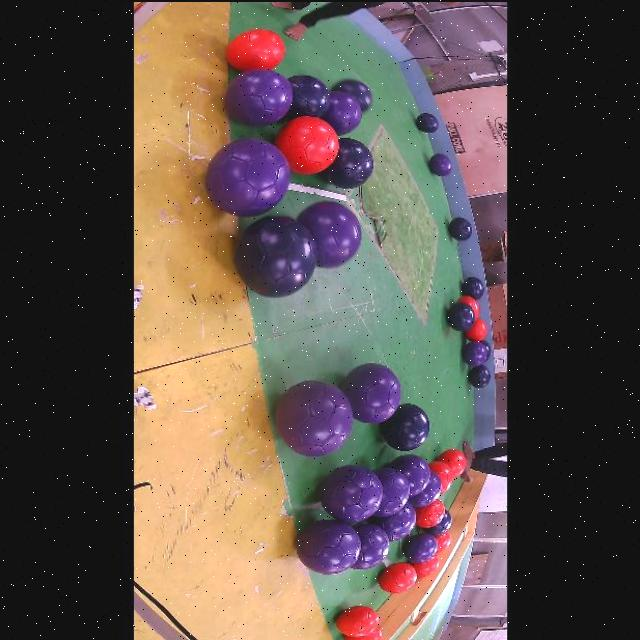B: (235, 214, 317, 296), (322, 136, 374, 187), (381, 403, 430, 449), (286, 73, 331, 118), (334, 78, 373, 110), (447, 300, 477, 330), (426, 509, 454, 535), (450, 216, 473, 239), (463, 275, 485, 299), (469, 364, 491, 387), (416, 112, 439, 131), (483, 339, 492, 360)
P: (207, 136, 291, 216), (276, 379, 354, 456), (299, 200, 363, 266), (226, 66, 294, 125), (341, 361, 402, 422), (321, 464, 383, 522), (298, 518, 361, 573), (374, 466, 411, 516), (370, 501, 417, 540), (322, 90, 363, 134), (390, 453, 431, 496), (352, 523, 390, 569), (410, 470, 442, 506), (404, 532, 438, 562), (463, 340, 487, 366), (430, 152, 454, 175)
R: (276, 114, 339, 173), (228, 27, 286, 70), (337, 605, 379, 636), (379, 561, 417, 592), (416, 497, 446, 527), (438, 448, 468, 477), (429, 460, 455, 492), (413, 555, 441, 577), (465, 317, 489, 340), (457, 295, 481, 317), (346, 626, 383, 640), (436, 530, 452, 552)
